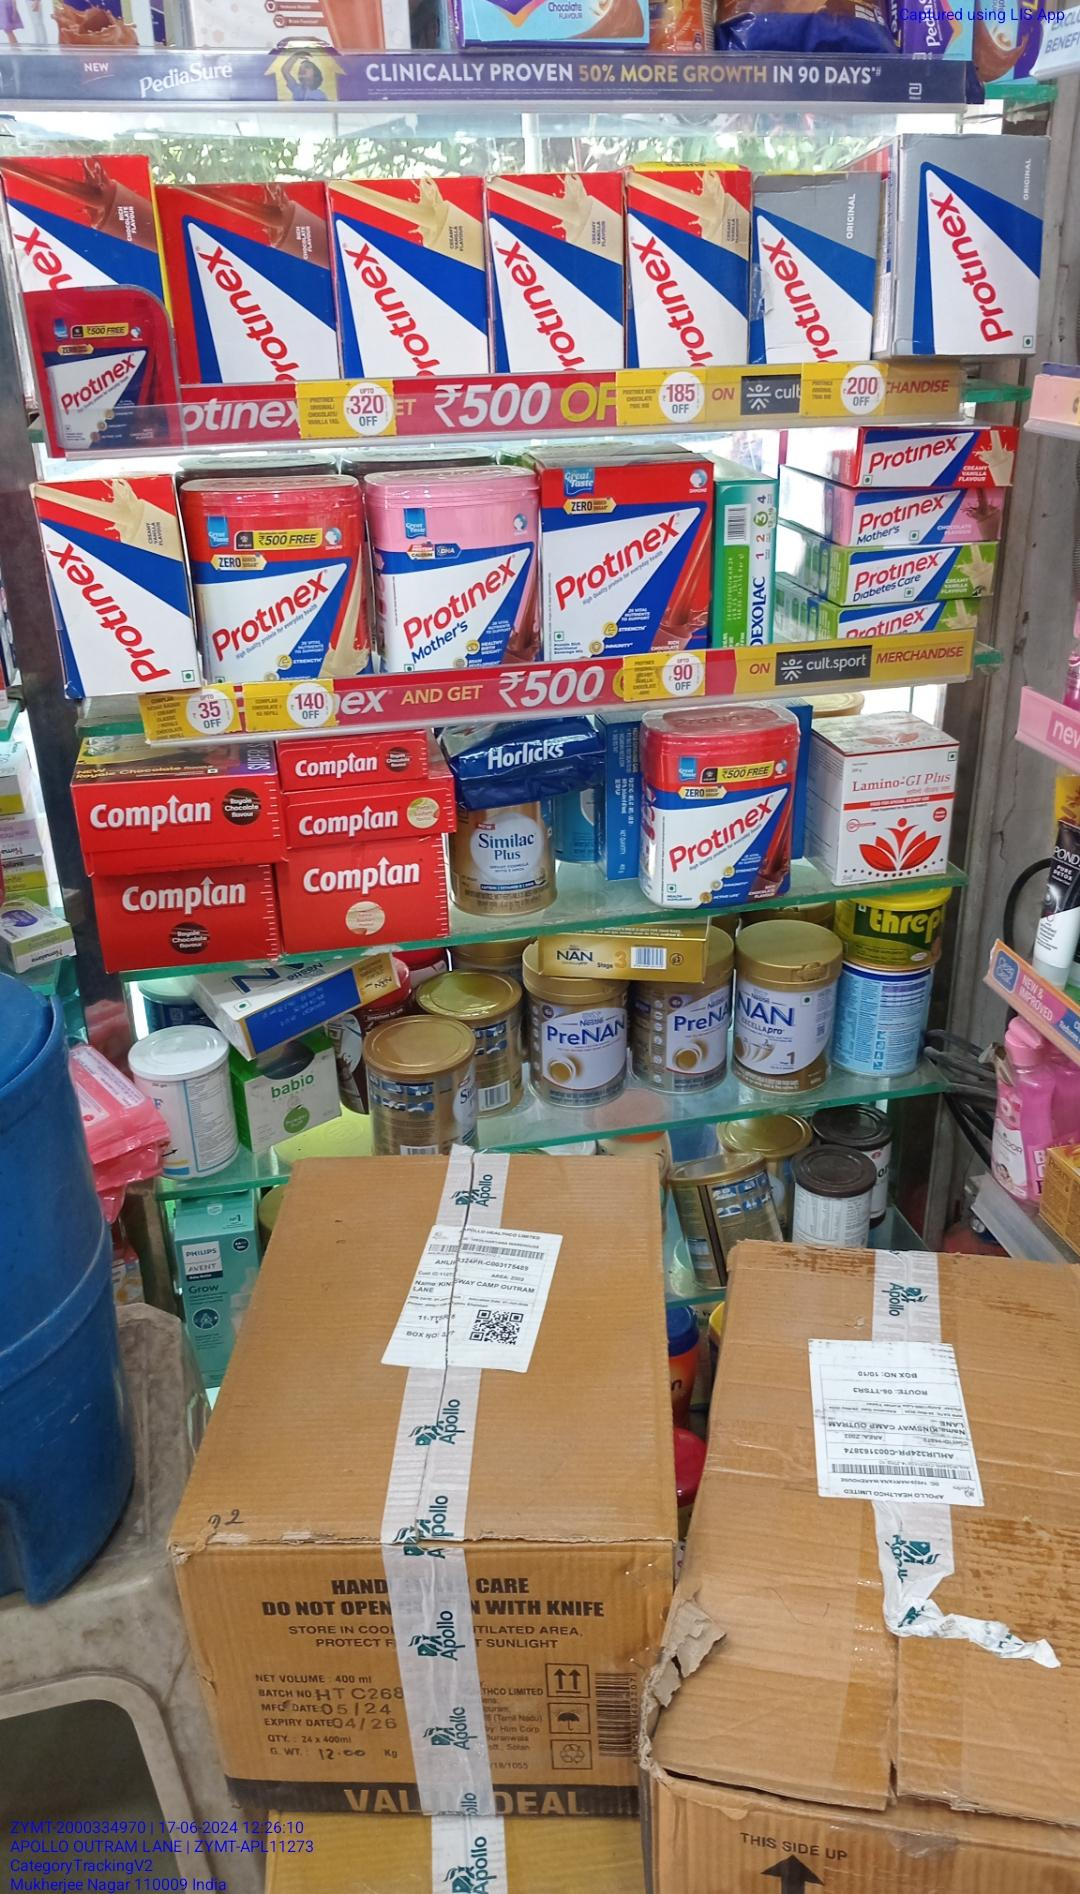PROTINEX_CHOCOLATE_400_G_JAR: (649, 726, 791, 899)
PROTINEX_VANILLA_400_G_JAR: (204, 487, 371, 676)
